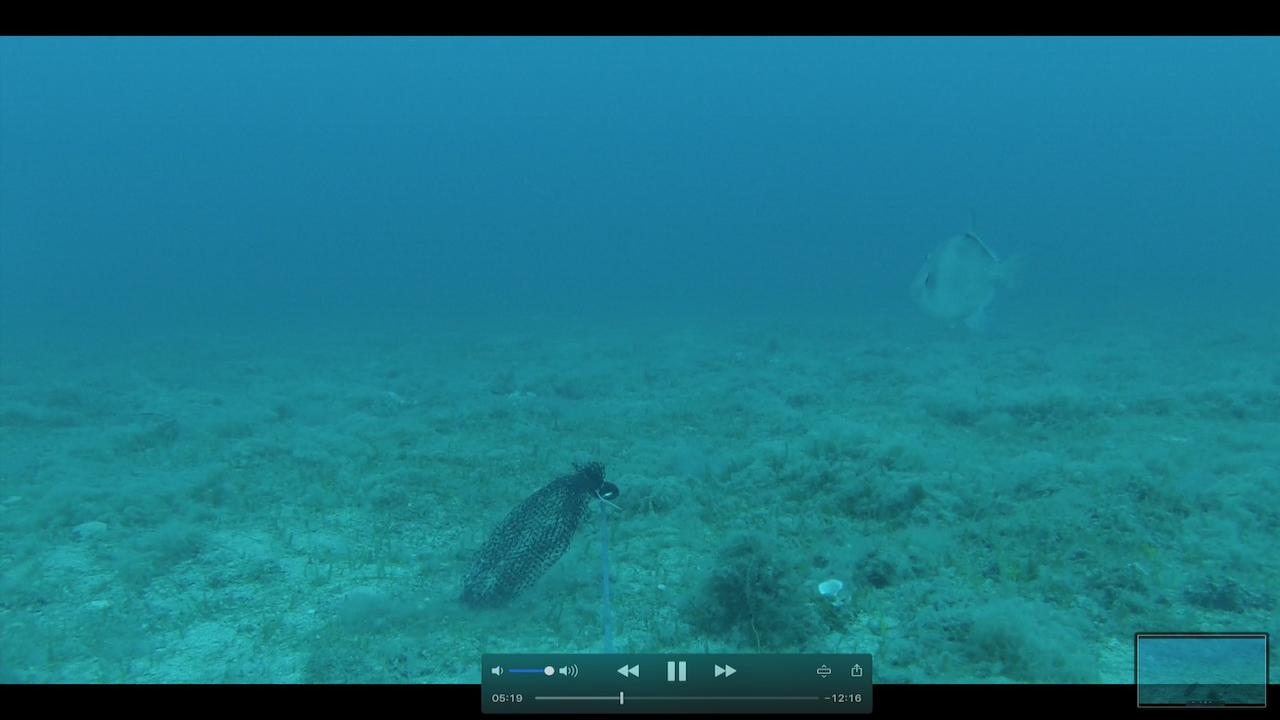balistes: (901, 206, 1052, 347)
